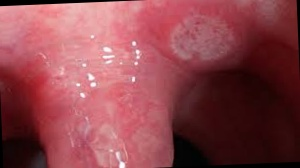Ulcer: (164, 11, 244, 63)
